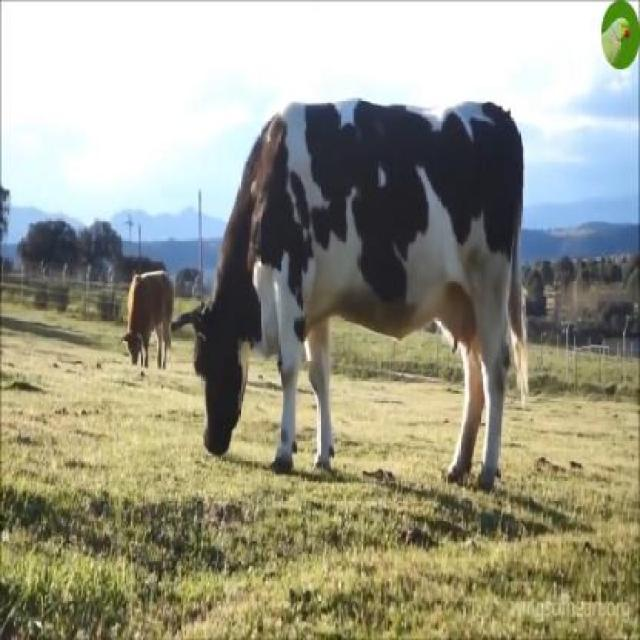Cow: (191, 102, 523, 460)
